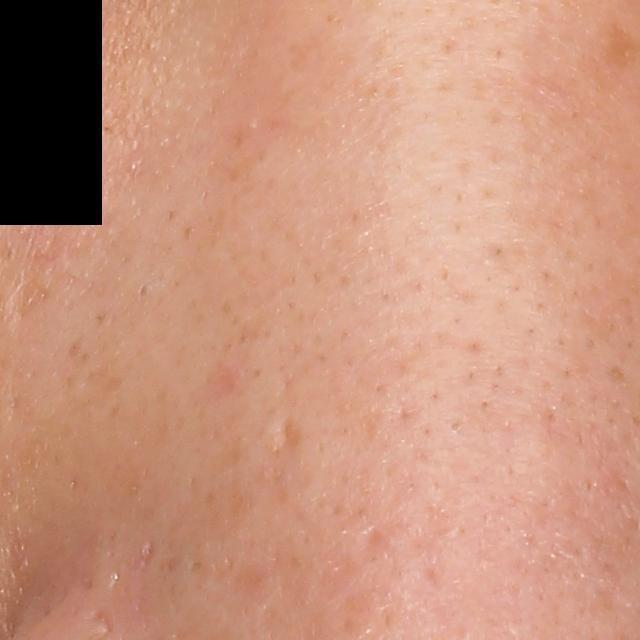atrophic_scar: (350, 523, 394, 571), (271, 415, 299, 454)
